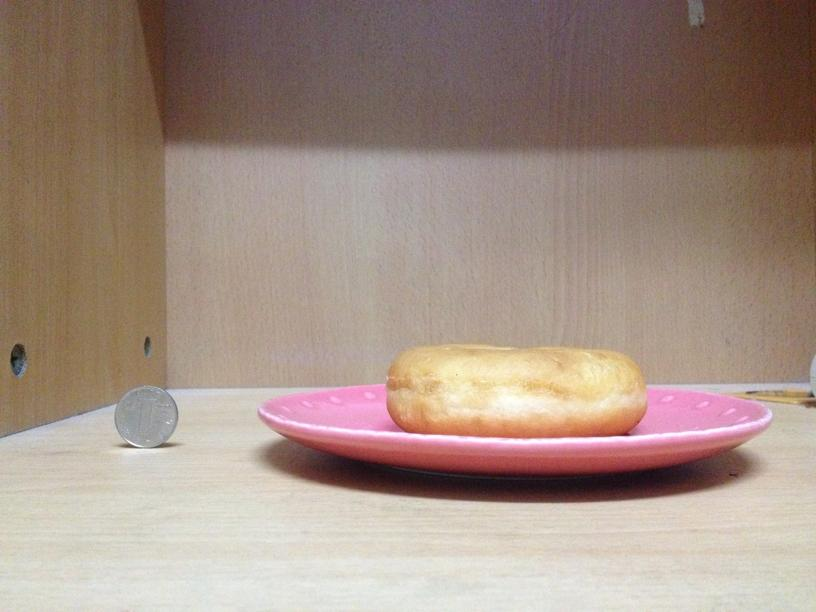coin: (111, 383, 178, 451)
doughnut: (384, 345, 647, 435)
